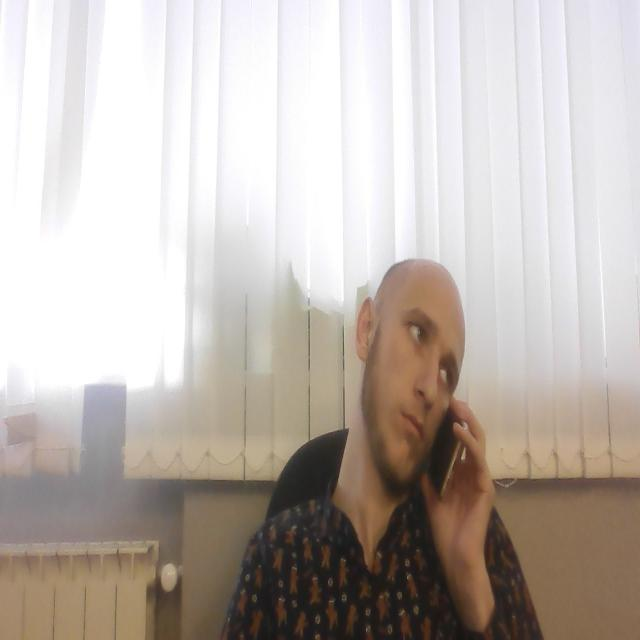phone: (424, 392, 466, 498)
